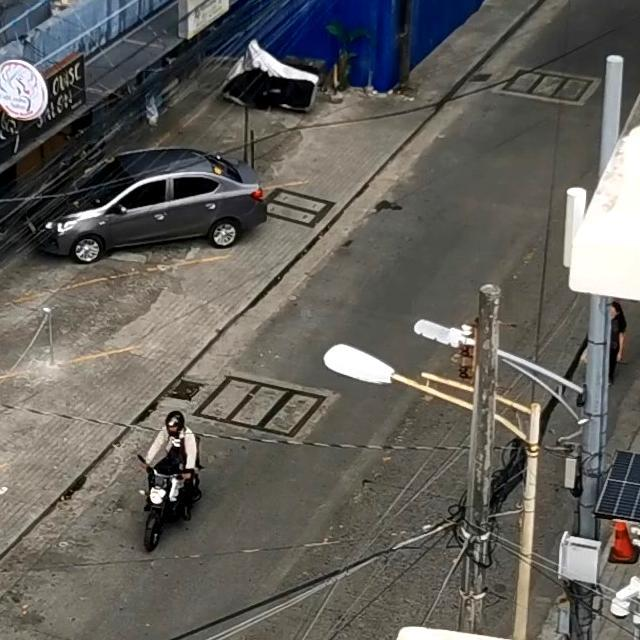Motorcycle: (132, 384, 215, 580)
